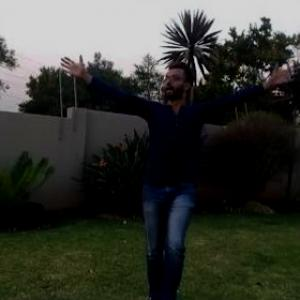takeoff: (60, 43, 299, 289)
